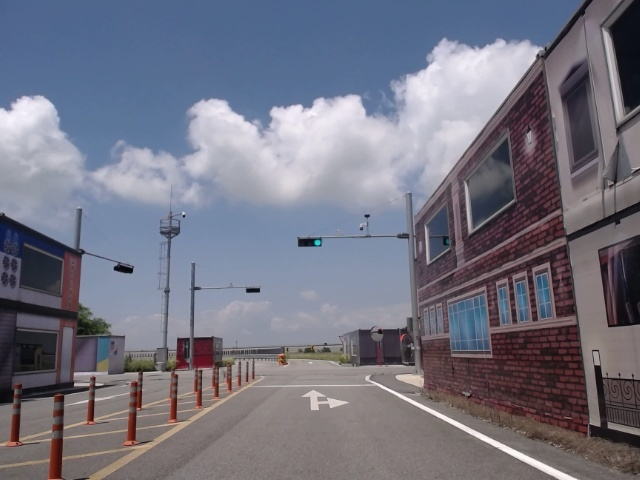green_3: (299, 239, 322, 246)
